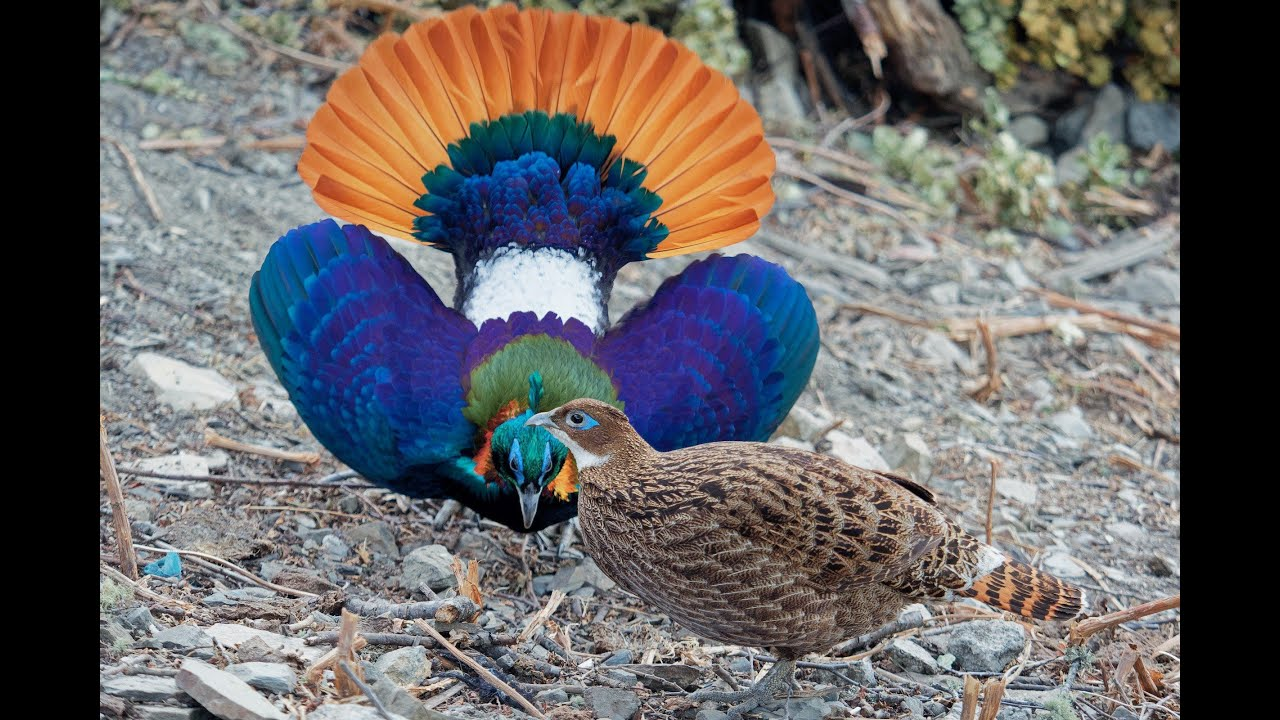bird: (226, 12, 812, 583), (514, 385, 1061, 694)
